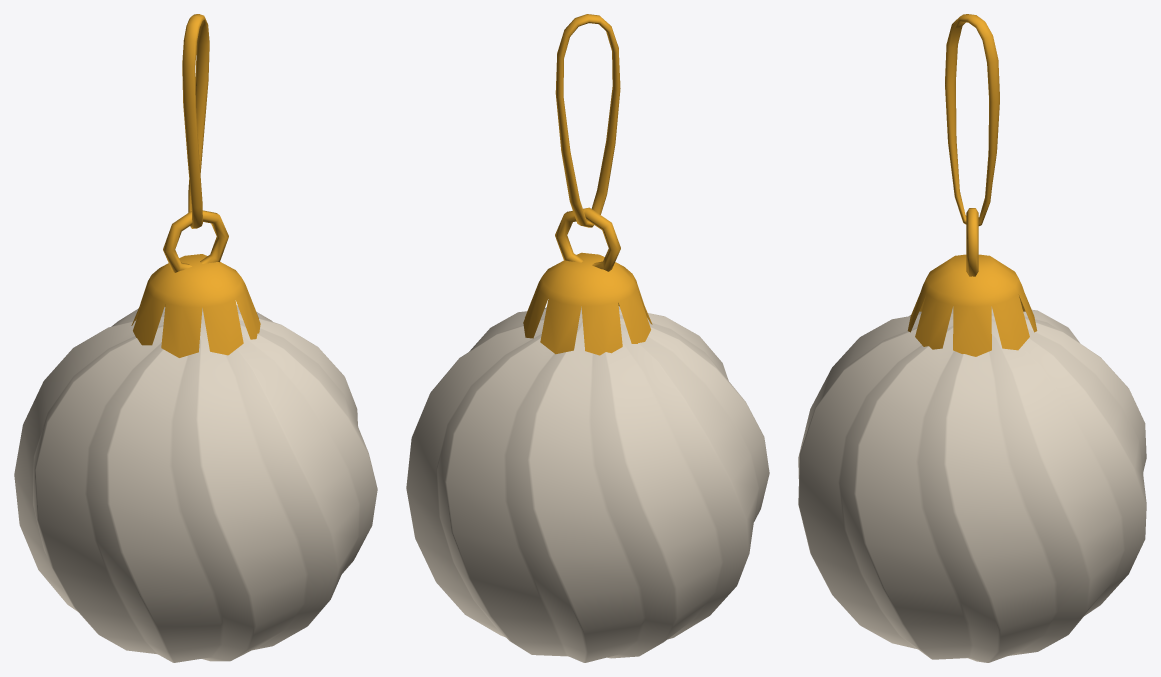
File: Ball_Tipper.fbx
3 renders of one model, left to right at view 1: azimuth 30°, elevation 25°; view 2: azimuth 150°, elevation 25°; view 3: azimuth 270°, elevation 25°, orthographic.
Visible parts, largest first — view 1: Ball Tipper; view 2: Ball Tipper; view 3: Ball Tipper.
Boxes of the visible parts, x1=… form: Ball Tipper: x1=14, y1=14, x2=377, y2=662; Ball Tipper: x1=406, y1=14, x2=769, y2=662; Ball Tipper: x1=798, y1=14, x2=1146, y2=662.
Size of the model in its own units: 4.4 by 8.39 by 4.2.
